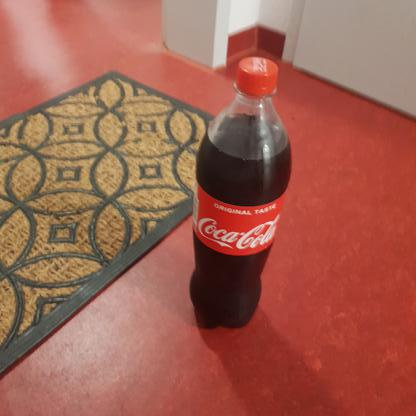coca-cola: (188, 55, 293, 333)
